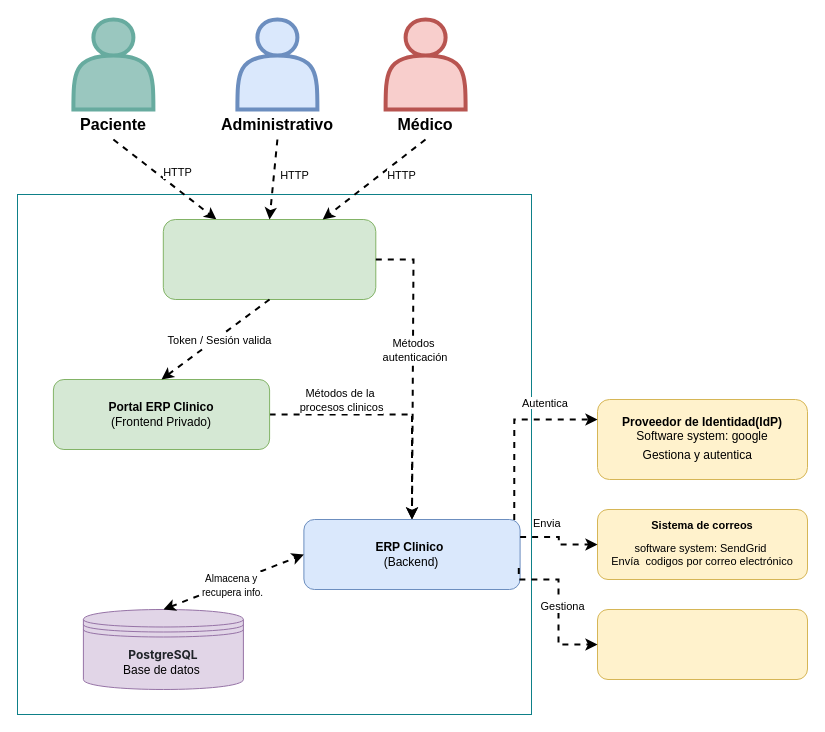
Some shapes in this 825 by 732 pixel diagram are drawn without their labels. The shapes that lost their labels are listed below. From the top down, each one's box as (x1, y1, x2, y2) in pixels, then its label:
(162, 218, 376, 300): G estión de Usuarios y Seguridad (Frontend)
(596, 608, 808, 680): Broker de Mensajería software system: RabbitMQ
